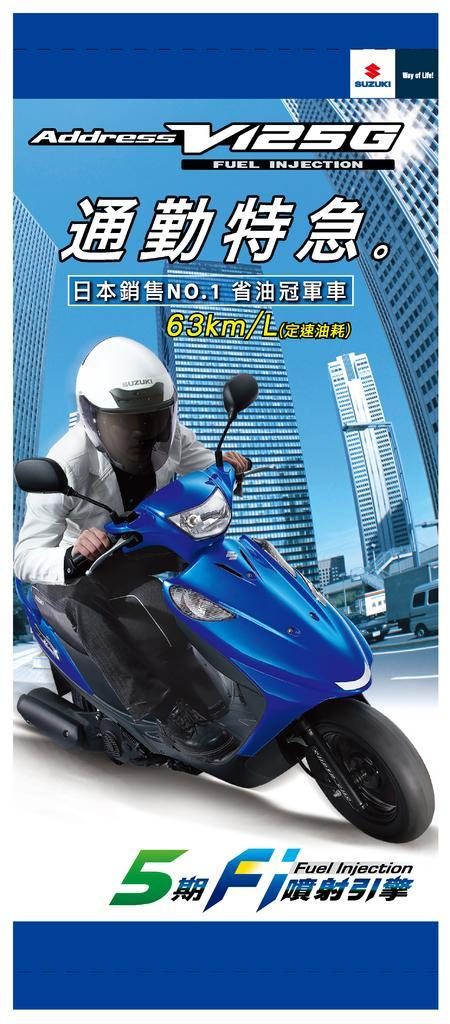helmet: (75, 335, 179, 477)
